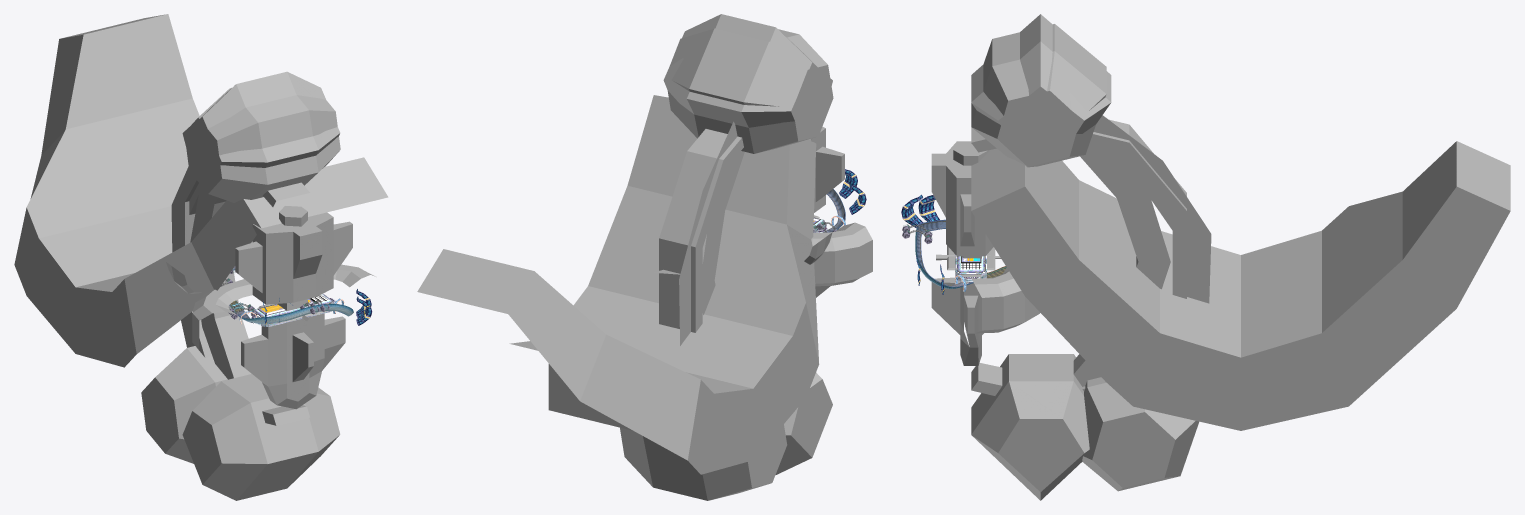
File: Republic fixLoop_trackscene.glb
3 views of the same model, side by side, from view 1: azimuth 30°, elevation 25°; view 2: azimuth 150°, elevation 25°; view 3: azimuth 270°, elevation 25° (orthographic). The views are drawn at different scales.
Visible parts, largest first — view 1: model14_MODC, model17_MODC, model16_MODC, model09_MODC, model10_MODC, model02_MODC, model06_MODC, section04, model00_MODL; view 2: model14_MODC, model16_MODC, model17_MODC, model02_MODC, model06_MODC, model09_MODC, model04_MODC, section04; view 3: model14_MODC, model16_MODC, model17_MODC, model02_MODC, model09_MODC, model10_MODC, section04, model06_MODC, model04_MODC, model00_MODL.
Boxes of the visible parts, <box> form: model14_MODC: <box>14,14,388,367</box>; model17_MODC: <box>182,71,340,500</box>; model16_MODC: <box>141,87,340,463</box>; model09_MODC: <box>235,206,352,304</box>; model10_MODC: <box>241,299,345,409</box>; model02_MODC: <box>178,172,309,425</box>; model06_MODC: <box>192,264,375,331</box>; section04: <box>221,266,372,326</box>; model00_MODL: <box>251,294,335,326</box>; model14_MODC: <box>417,95,819,474</box>; model16_MODC: <box>620,28,833,500</box>; model17_MODC: <box>663,14,832,474</box>; model02_MODC: <box>659,129,743,332</box>; model06_MODC: <box>811,222,872,273</box>; model09_MODC: <box>811,126,844,212</box>; model04_MODC: <box>814,250,872,286</box>; section04: <box>813,169,866,232</box>; model14_MODC: <box>971,141,1510,430</box>; model16_MODC: <box>971,24,1211,491</box>; model17_MODC: <box>971,14,1170,500</box>; model02_MODC: <box>971,119,1186,395</box>; model09_MODC: <box>931,141,993,256</box>; model10_MODC: <box>931,256,983,365</box>; section04: <box>901,194,1006,294</box>; model06_MODC: <box>971,268,1033,320</box>; model04_MODC: <box>976,298,1040,333</box>; model00_MODL: <box>955,255,986,282</box>.
Size of what is drawn, in the model's own units: 1350 by 2820 by 3389.
51 materials, 50 textured.
